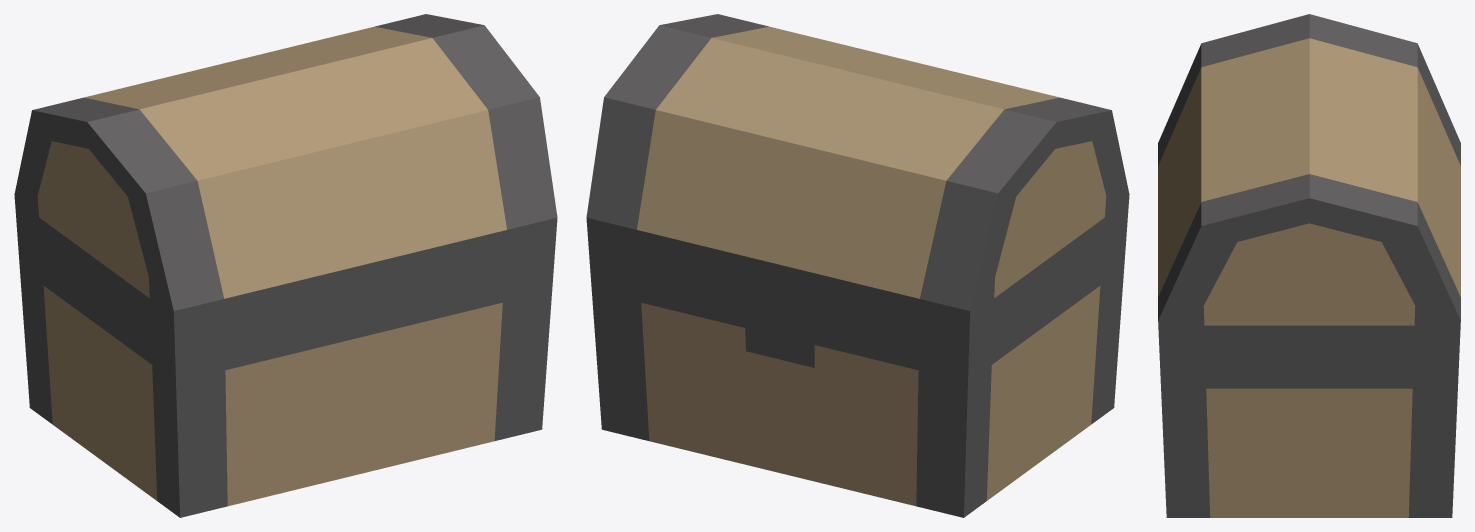
The model's file is chest_closed.glb.
3 views of the same model, side by side, from view 1: azimuth 30°, elevation 25°; view 2: azimuth 150°, elevation 25°; view 3: azimuth 270°, elevation 25° (orthographic). The views are drawn at different scales.
Parts seen in each view (by area): view 1: SM_Prop_TreasureChest_Closed_01; view 2: SM_Prop_TreasureChest_Closed_01; view 3: SM_Prop_TreasureChest_Closed_01.
Part boxes in pixels (left/top/right/bottom): SM_Prop_TreasureChest_Closed_01: left=14, top=14, right=557, bottom=517; SM_Prop_TreasureChest_Closed_01: left=586, top=14, right=1129, bottom=517; SM_Prop_TreasureChest_Closed_01: left=1158, top=14, right=1460, bottom=517.
Bounding box in the file's own units: 0.6506 × 0.5402 × 0.452.
1 material, 1 textured.
